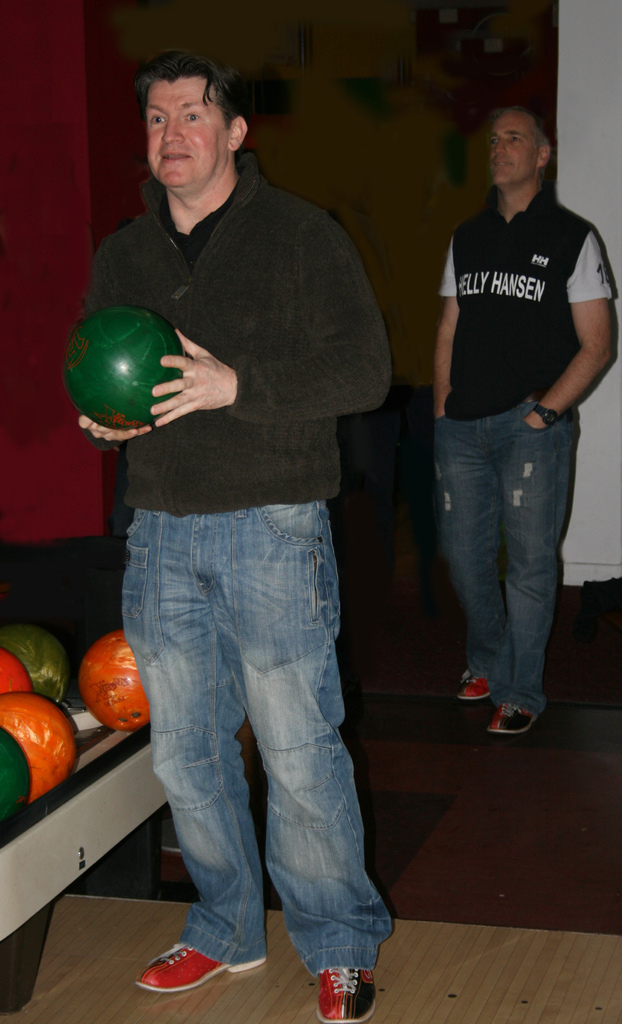Ball: (62, 304, 190, 433), (0, 696, 80, 804), (78, 631, 157, 738), (0, 620, 73, 705), (0, 724, 35, 837), (0, 646, 38, 694)
